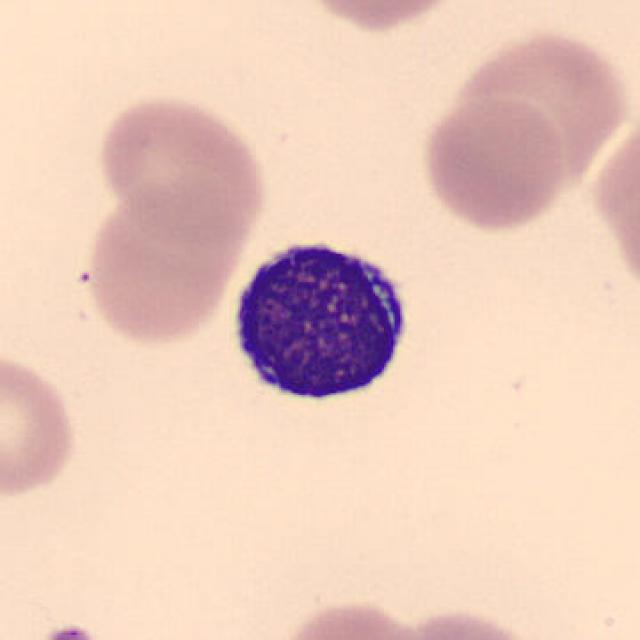Lymphocyte: (219, 224, 421, 421)
Platelets: (39, 622, 101, 640)
RBC: (434, 30, 626, 203), (77, 175, 250, 349), (91, 90, 272, 245), (418, 95, 570, 235), (0, 348, 84, 504), (588, 104, 638, 303), (263, 594, 434, 640), (288, 0, 471, 35), (380, 604, 552, 640)
